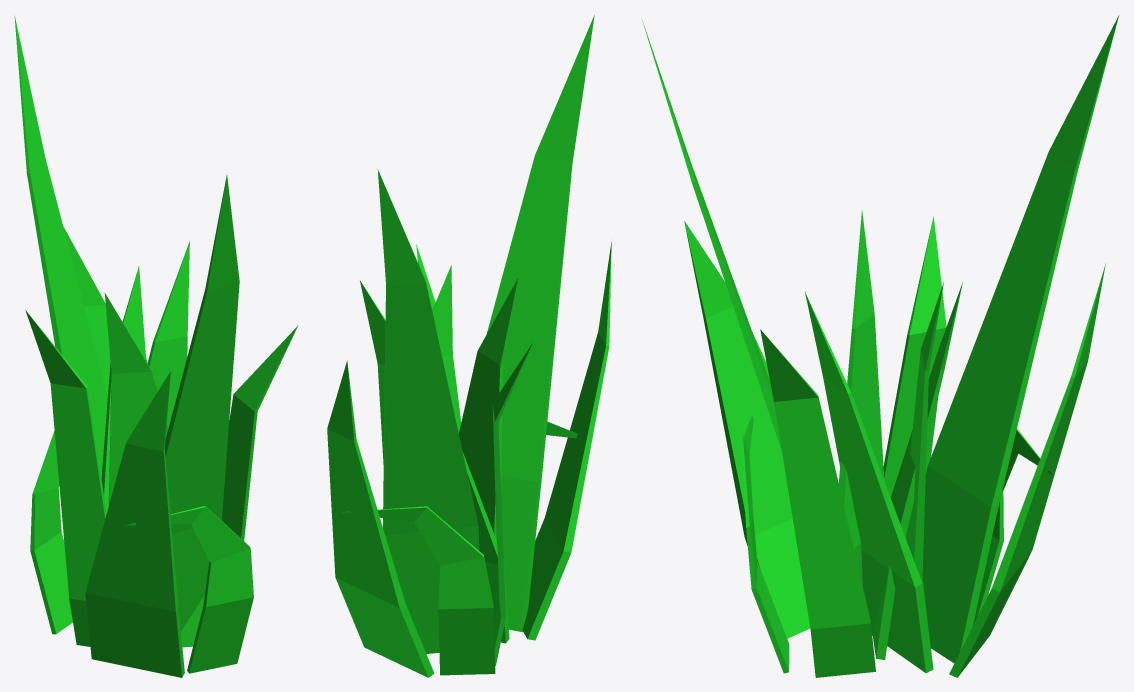
File: grass2.fbx
3 renders of one model, left to right at view 1: azimuth 30°, elevation 25°; view 2: azimuth 150°, elevation 25°; view 3: azimuth 270°, elevation 25°, orthographic. The views are drawn at different scales.
Parts seen in each view (by area): view 1: Cube.001; view 2: Cube.001; view 3: Cube.001.
Part boxes in pixels (<box>): Cube.001: <box>14,16,298,677</box>; Cube.001: <box>327,15,611,677</box>; Cube.001: <box>642,15,1118,677</box>.
Bounding box in the file's own units: 795 × 2180 × 1516.
